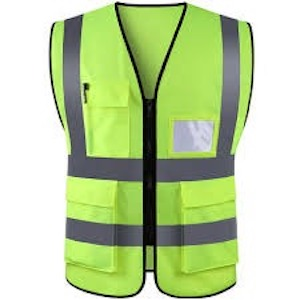vest: (51, 5, 254, 294)
